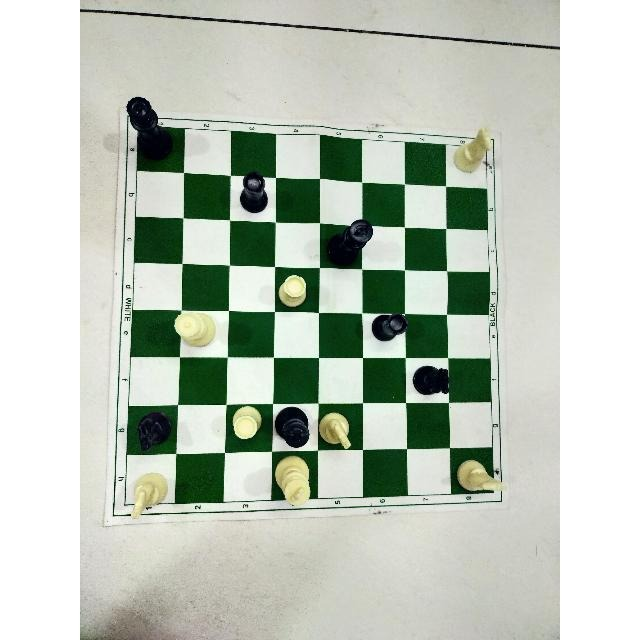black-king: (328, 218, 374, 265), (275, 407, 311, 450)
black-knight: (130, 408, 174, 458), (410, 361, 453, 403)
black-queen: (123, 94, 174, 164)
black-rook: (370, 309, 410, 346), (239, 172, 269, 213)
white-king: (270, 456, 313, 512)
white-knight: (123, 468, 165, 522), (455, 455, 505, 500), (453, 126, 493, 178), (320, 410, 354, 453)
white-queen: (173, 303, 220, 357)
white-rook: (228, 403, 265, 446), (278, 274, 308, 309)
